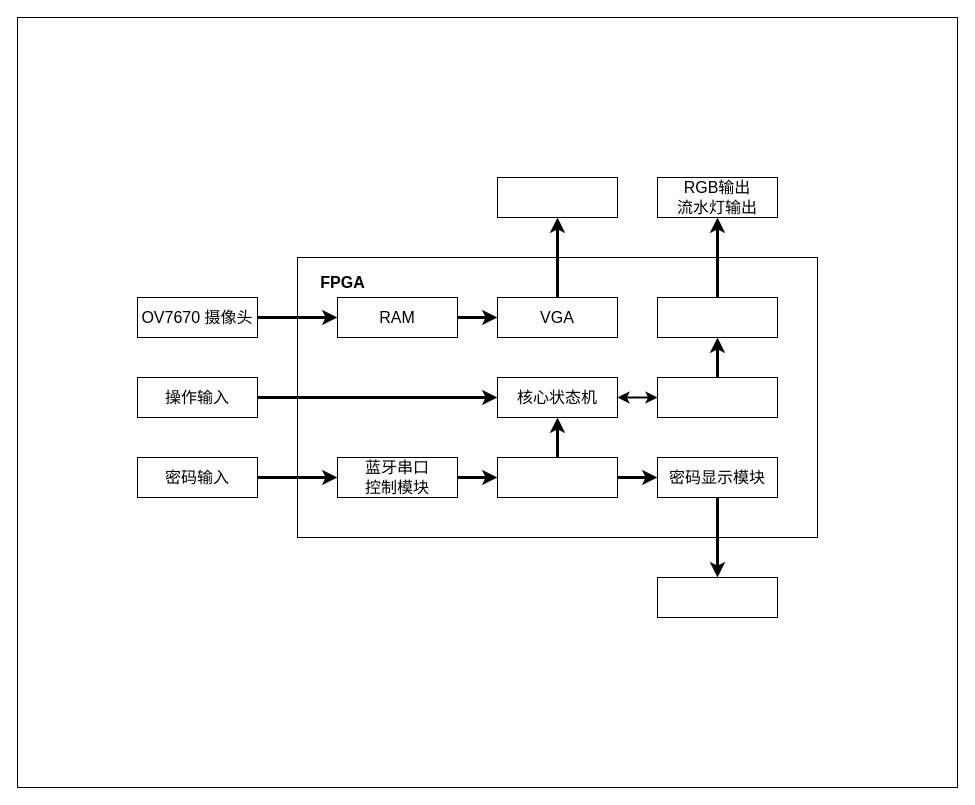
Image size: 975x805. Some labels were removed from this diagram. Here are the shapes that lost their labels. From the top down, the box of each, then its label:
(496, 176, 618, 218): 显示屏
(656, 296, 778, 338): 状态输出控制
(656, 376, 778, 418): 延时状态机
(496, 456, 618, 498): 密码控制模块
(656, 576, 778, 618): 数码管显示
